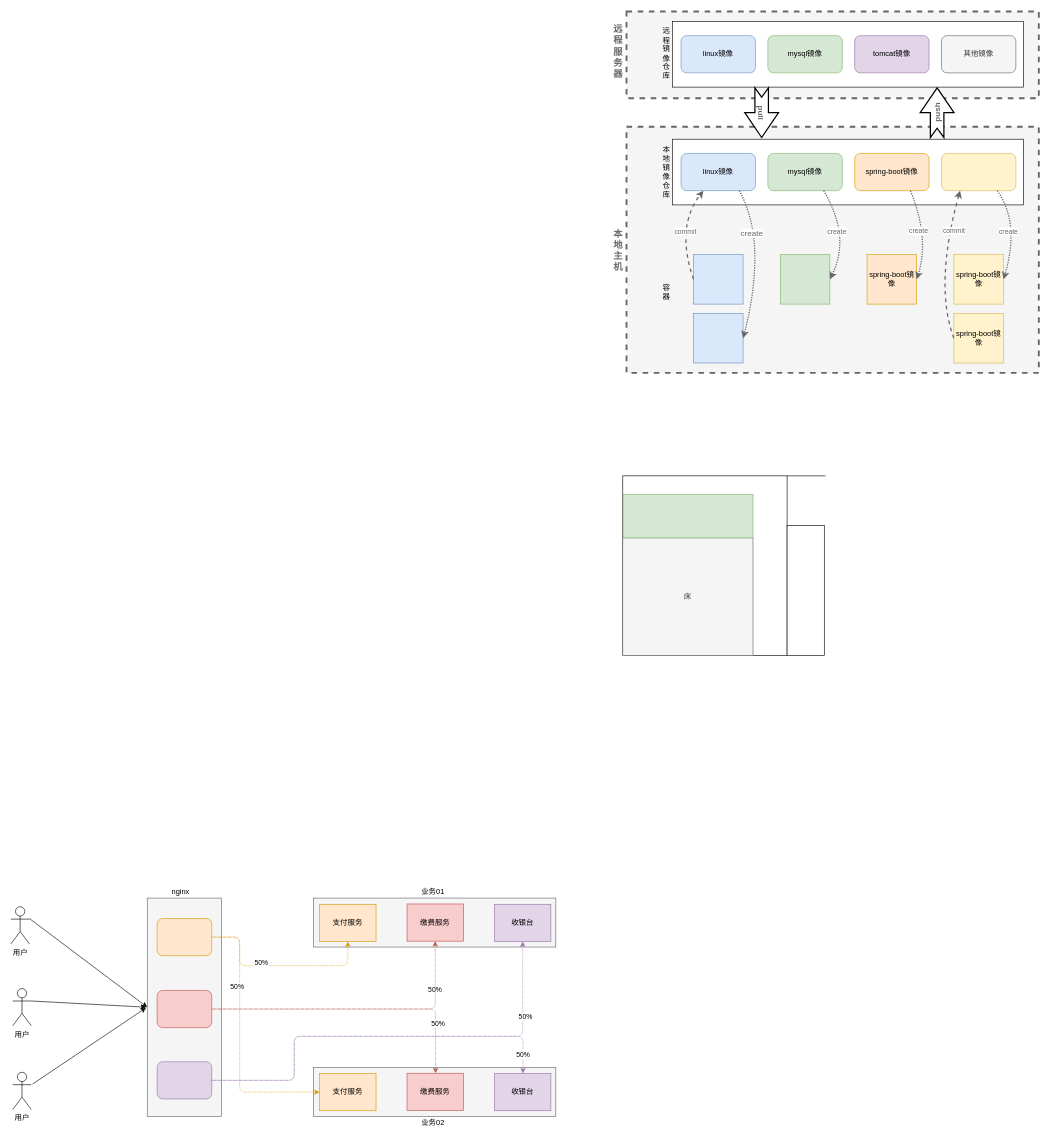
Some shapes in this 1050 by 1140 pixel diagram are drawn without their labels. Here are the shapes that lost their labels. From the top down, the centre of each, then its label:
the point at 978,172: spring-cloud镜像
the point at 718,279: linux容器1
the point at 805,279: mysql容器1
the point at 718,338: linux容器2
the point at 184,937: 80端口
the point at 184,1009: 8081端口
the point at 184,1080: 8083端口
